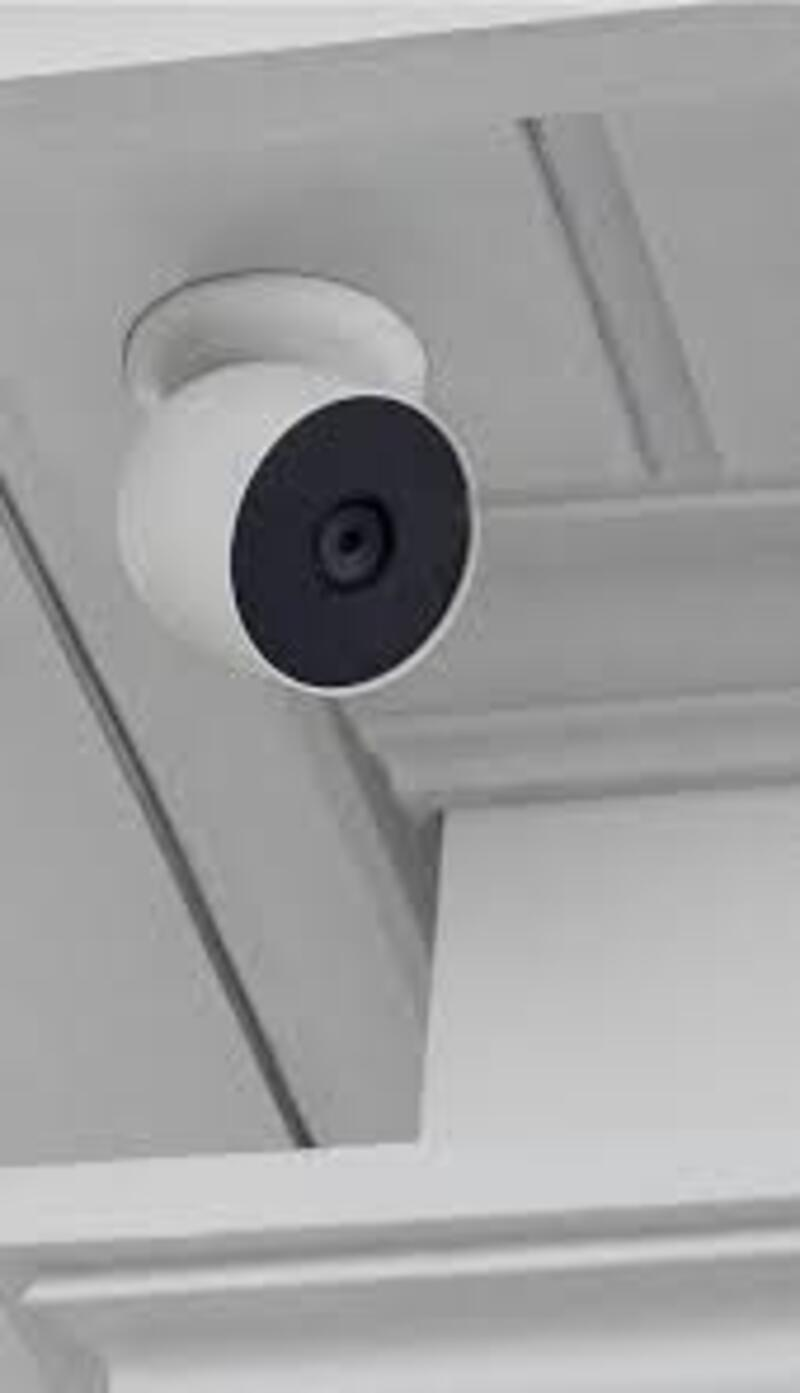nest: (98, 305, 532, 716)
